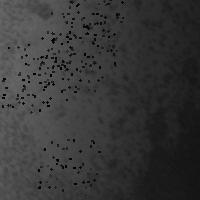pitted_surface: (82, 1, 184, 187), (1, 1, 78, 200), (144, 98, 200, 200), (17, 31, 77, 91), (38, 139, 98, 194), (62, 13, 122, 68), (45, 33, 101, 90), (17, 53, 71, 111), (0, 46, 49, 106), (66, 0, 121, 50), (51, 0, 107, 33)
